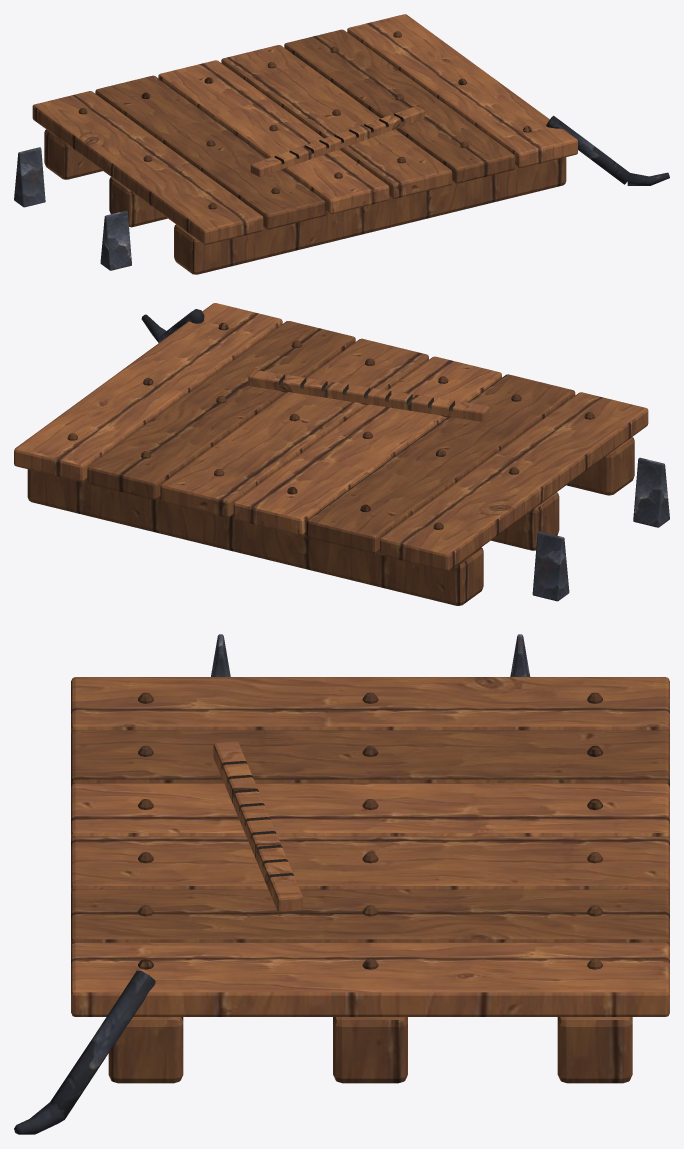
File: hw_ingot_stack_empty.glb
3 renders of one model, top to bottom at view 1: azimuth 30°, elevation 25°; view 2: azimuth 150°, elevation 25°; view 3: azimuth 270°, elevation 25°, orthographic. The views are drawn at different scales.
Parts seen in each view (by area): view 1: model; view 2: model; view 3: model.
Part boxes in pixels (left/top/right/bottom): model: left=14, top=14, right=669, bottom=274; model: left=14, top=303, right=669, bottom=605; model: left=14, top=634, right=669, bottom=1134.
Bounding box in the file's own units: 1.35 × 0.1645 × 0.8763.
7 materials, 6 textured.
